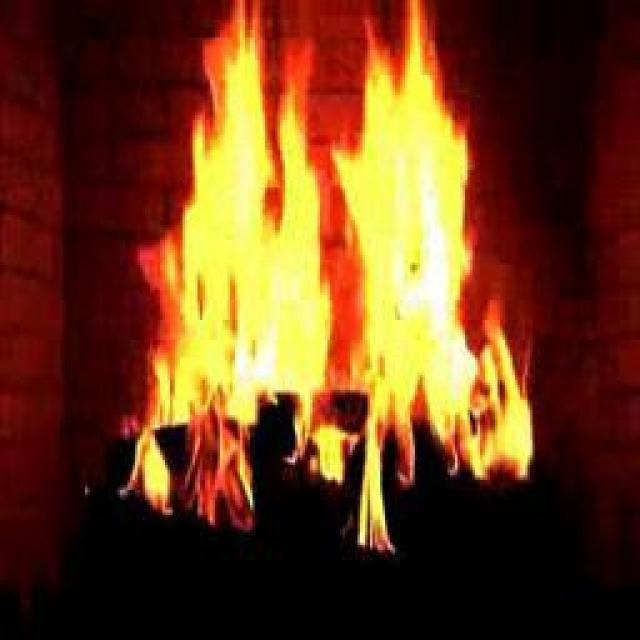Fire: (143, 31, 480, 456)
